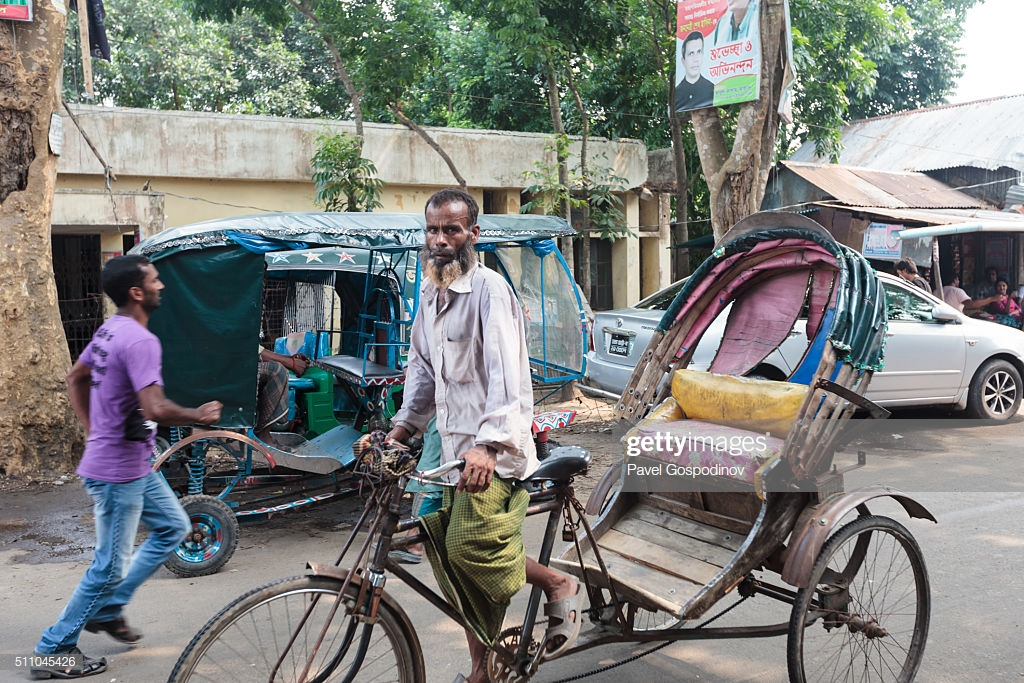Rickshaw: (207, 192, 925, 680)
